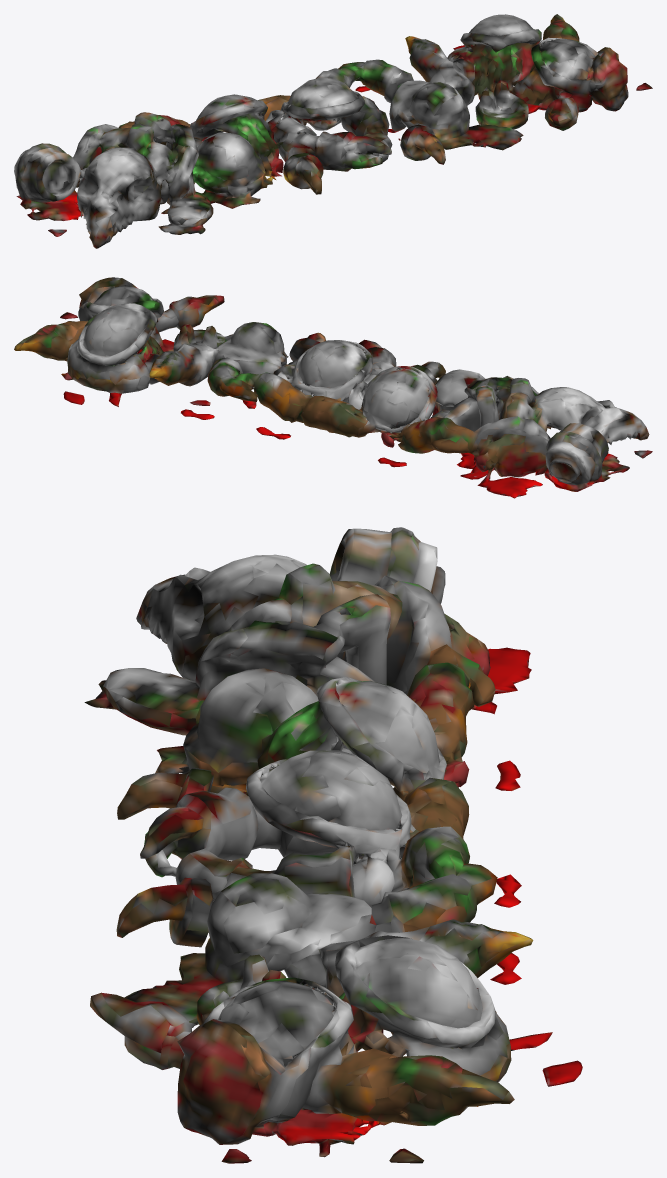
File: BOSSO0.obj
3 renders of one model, top to bottom at view 1: azimuth 30°, elevation 25°; view 2: azimuth 150°, elevation 25°; view 3: azimuth 270°, elevation 25°, orthographic. The views are drawn at different scales.
Size of the model in its own units: 1 by 0.1219 by 0.3708.
Materials: 1 (1 with a texture image).
